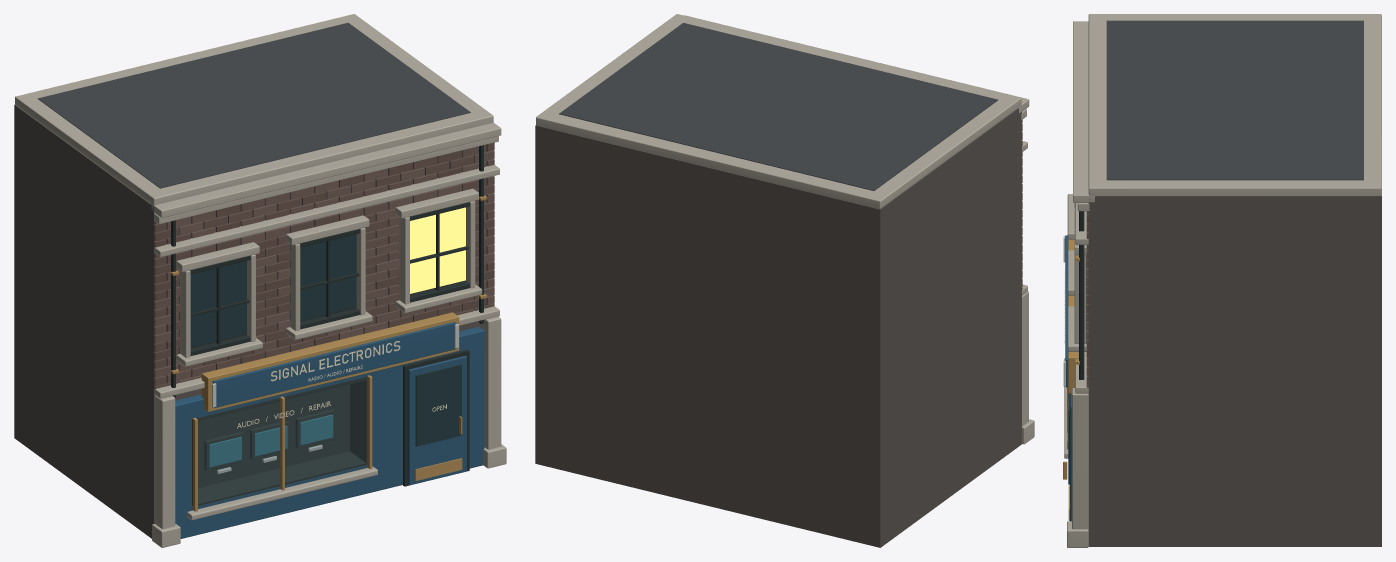
The model's file is district-signal-electronics.glb.
3 views of the same model, side by side, from view 1: azimuth 30°, elevation 25°; view 2: azimuth 150°, elevation 25°; view 3: azimuth 270°, elevation 25° (orthographic). The views are drawn at different scales.
Parts seen in each view (by area): view 1: Existing envelope, District Roof membrane, District Warm limestone, District Charcoal painted metal, District Shop window clear glazing, District Coffee enamel, Roof cap, District Opaque dark glazing, District Brick tone 0, Sign enamel inset, District Brick tone 3, District Brick tone 4 (+8 smaller); view 2: Existing envelope, District Roof membrane, Roof cap, District Warm limestone; view 3: Existing envelope, District Roof membrane, Roof cap, District Warm limestone, District Charcoal painted metal, Sign brass frame, Sign enamel inset.
Boxes of the visible parts, x1,y1,x2,y2 form: Existing envelope: (14, 104, 493, 538); District Roof membrane: (37, 22, 470, 188); District Warm limestone: (151, 122, 506, 547); District Charcoal painted metal: (171, 145, 483, 506); District Shop window clear glazing: (198, 379, 366, 506); District Coffee enamel: (175, 326, 484, 538); Roof cap: (15, 14, 493, 205); District Opaque dark glazing: (190, 234, 461, 446); District Brick tone 0: (154, 150, 494, 388); Sign enamel inset: (212, 322, 456, 407); District Brick tone 3: (154, 150, 494, 382); District Brick tone 4: (166, 161, 494, 382); Existing envelope: (535, 108, 1021, 547); District Roof membrane: (559, 23, 997, 190); Roof cap: (536, 14, 1021, 208); District Warm limestone: (684, 15, 1034, 444); Existing envelope: (1088, 195, 1381, 546); District Roof membrane: (1106, 20, 1363, 180); Roof cap: (1088, 14, 1381, 196); District Warm limestone: (1064, 21, 1095, 547); District Charcoal painted metal: (1079, 211, 1086, 379); Sign brass frame: (1068, 239, 1078, 393); Sign enamel inset: (1065, 235, 1067, 387).
Size of the model in its own units: 7.71 by 7.31 by 5.87.
